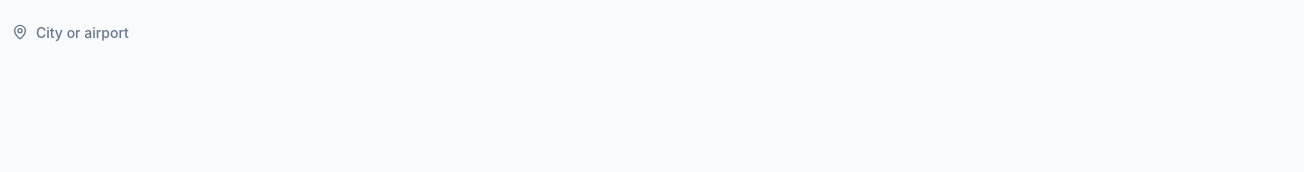
it: LocationCombobox › shows "temporarily unavailable" for invoke error
This screenshot has width=1304, height=172.
In the field with placeholder "City or airport": (652, 32) [12, 12, 1292, 52], type "syd"
Wait 200 ms
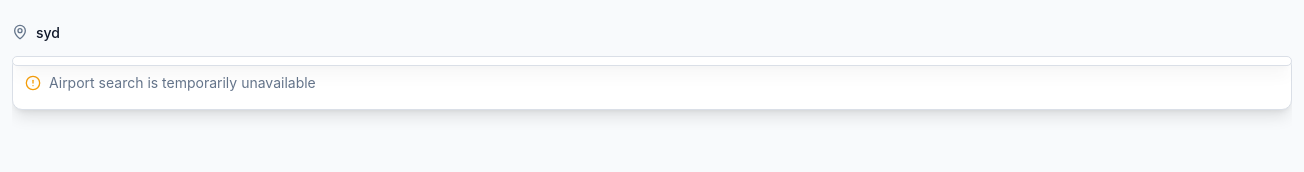
Now the text "Airport search is temporarily unavailable" is shown, box [25, 74, 316, 91]
